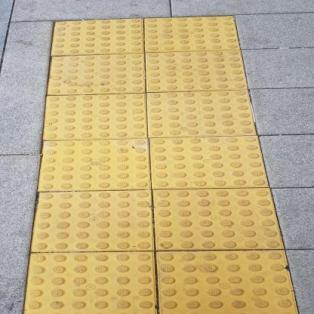Podoctatil: (14, 13, 306, 313)
